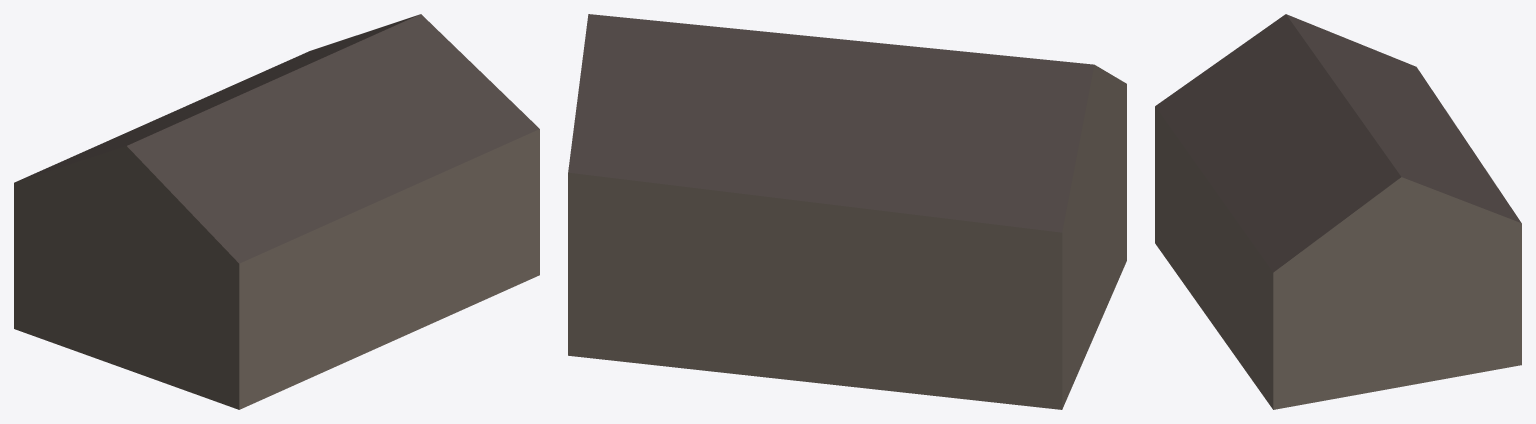
3 views of the same model, side by side, from view 1: azimuth 30°, elevation 25°; view 2: azimuth 150°, elevation 25°; view 3: azimuth 270°, elevation 25° (orthographic). The views are drawn at different scales.
Visible parts, largest first — view 1: HP-w1512914123; view 2: HP-w1512914123; view 3: HP-w1512914123.
Boxes of the visible parts, <box> form: HP-w1512914123: <box>14,14,539,409</box>; HP-w1512914123: <box>568,14,1126,409</box>; HP-w1512914123: <box>1155,14,1521,409</box>.
Size of the model in its own units: 19.3 by 9.17 by 14.52.
